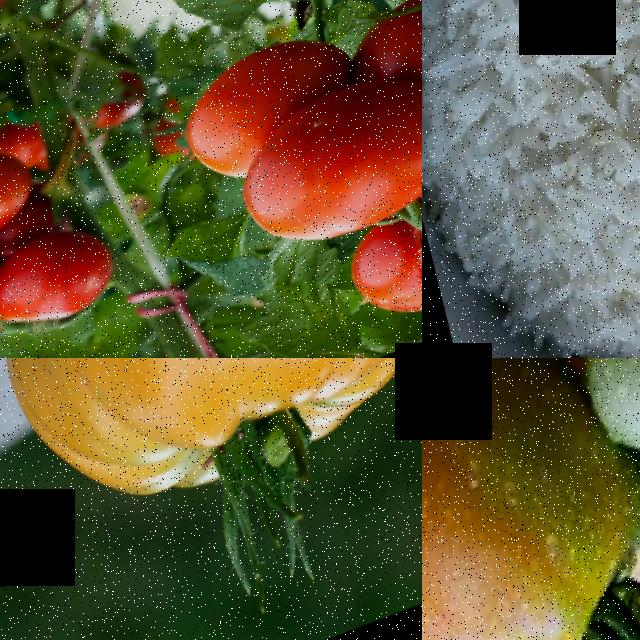tomato: (0, 358, 422, 598), (422, 358, 640, 640), (222, 55, 422, 281), (0, 216, 128, 350)
white rice: (422, 0, 640, 358)
